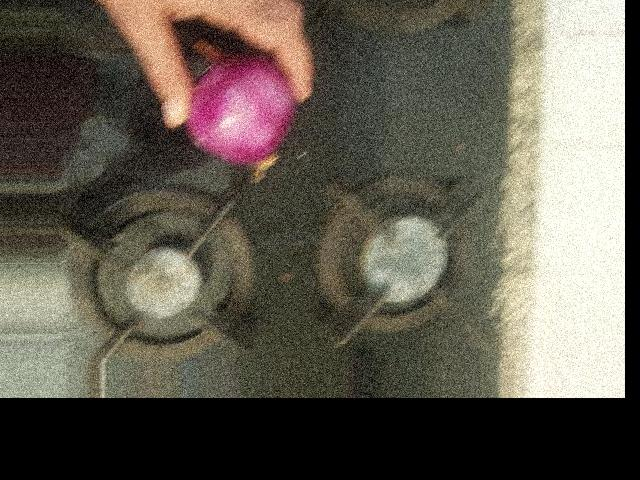onion: (178, 45, 296, 169)
